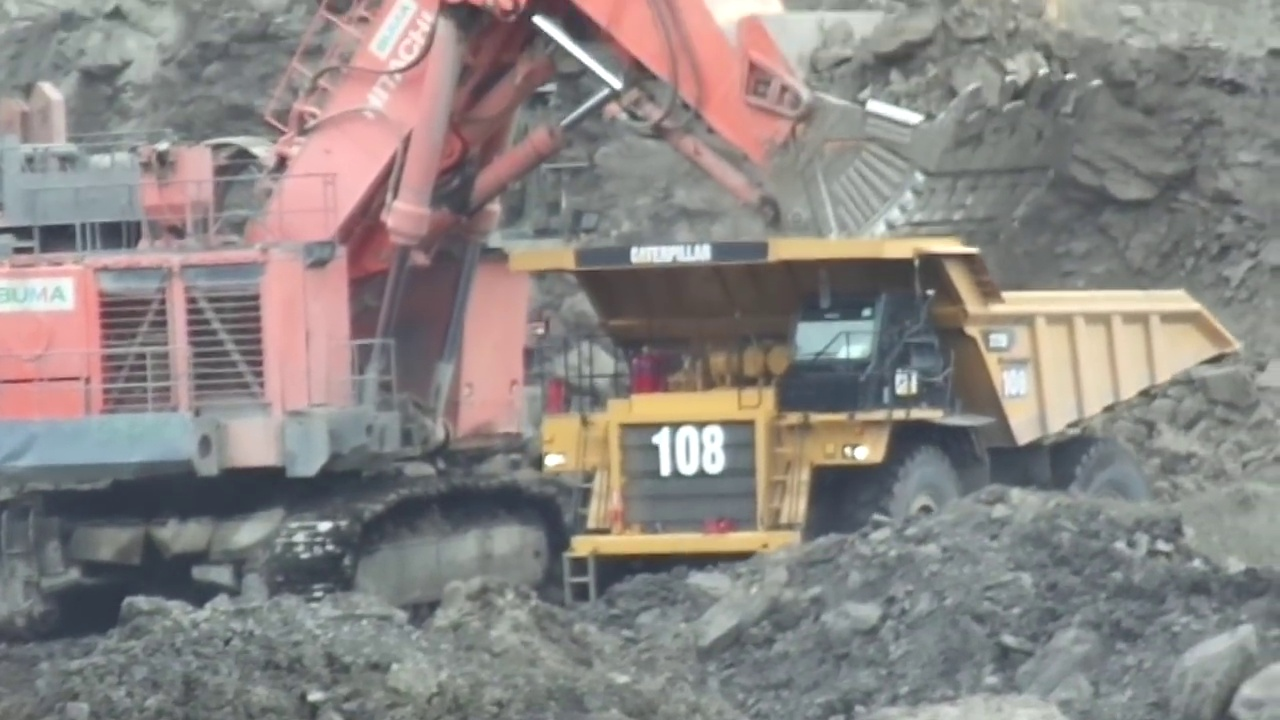dumper: (507, 235, 1240, 570)
excavator: (7, 3, 1096, 634)
